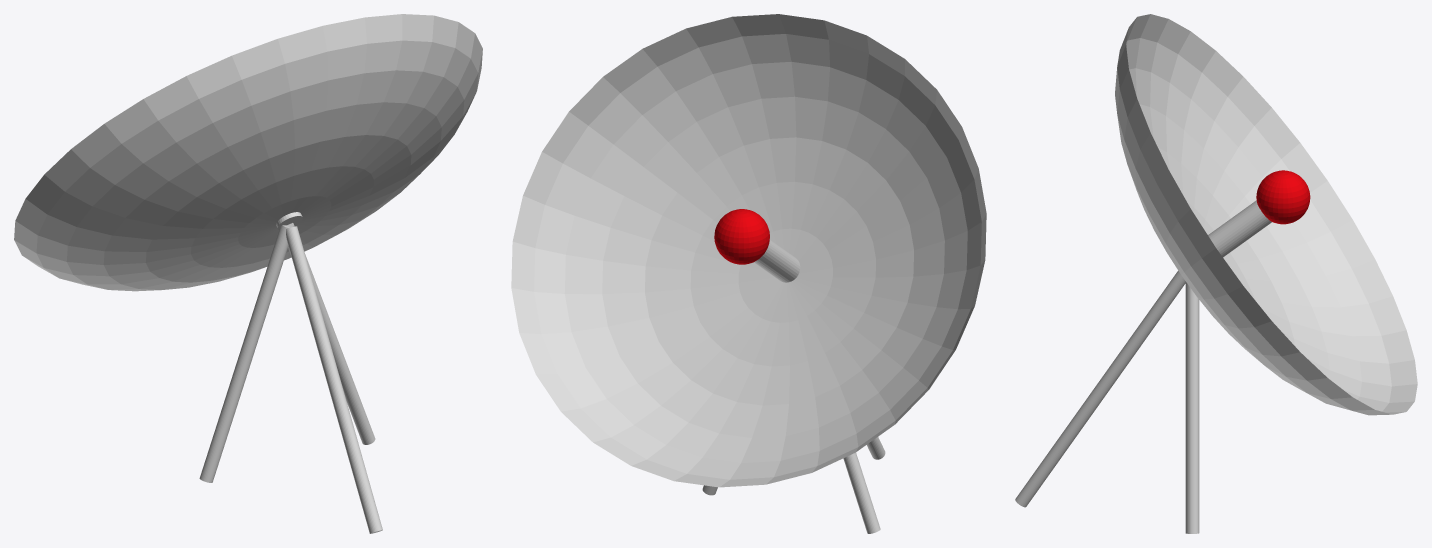
The model's file is antena2.glb.
The picture shows the model from 3 angles, left to right: view 1: azimuth 30°, elevation 25°; view 2: azimuth 150°, elevation 25°; view 3: azimuth 270°, elevation 25°; orthographic projection. The views are drawn at different scales.
Parts seen in each view (by area): view 1: Cylinder; view 2: Cylinder, Sphere.001; view 3: Cylinder, Sphere.001.
Part boxes in pixels (x1,y1,x2,y2): Cylinder: (14,14,482,533); Cylinder: (511,14,986,533); Sphere.001: (714,209,769,264); Cylinder: (1015,14,1417,533); Sphere.001: (1256,170,1310,224).
Size of the model in its own units: 3.74 by 3.77 by 2.98.
